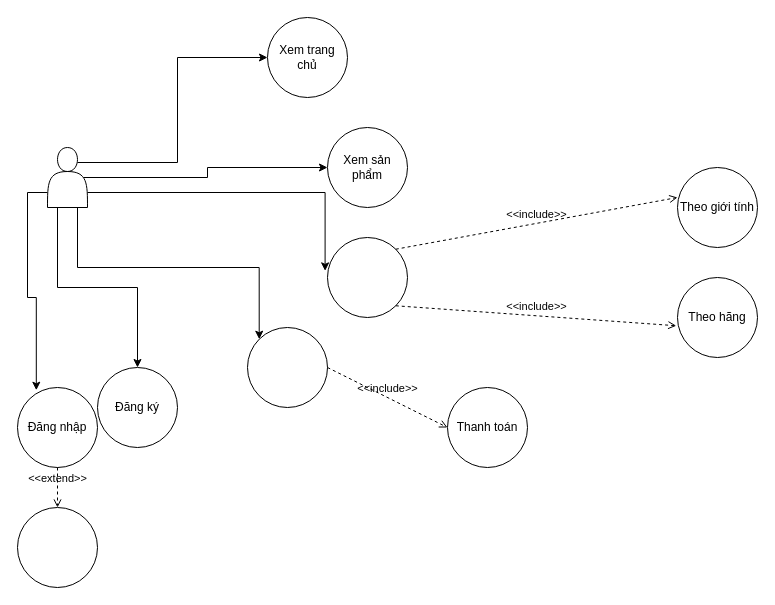
The diagram is 775 pixels wide and 605 high, and some of its shapes have lost their labels. Here are the shapes that lost their labels. From the top down, the box of each, then its label:
(326, 236, 408, 318): Tìm kiếm
(246, 326, 328, 408): Xem giỏ hàng
(16, 506, 98, 588): Đăng xuất
